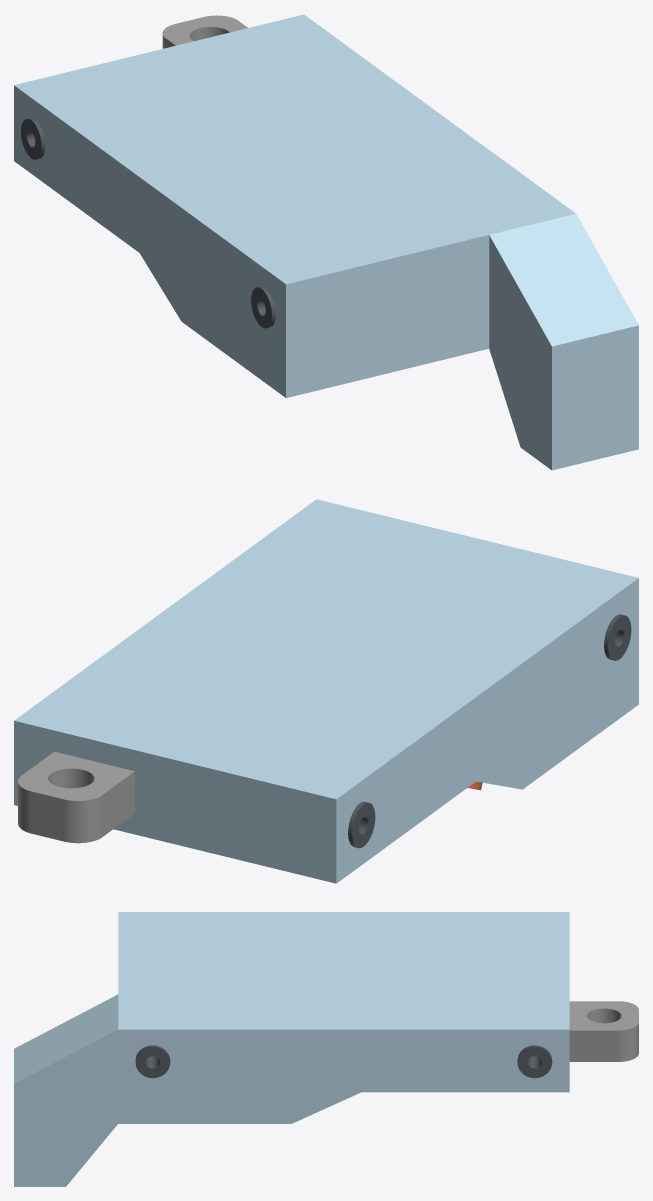
The model's file is robot_base.dae.
The picture shows the model from 3 angles, top to bottom: view 1: azimuth 30°, elevation 25°; view 2: azimuth 150°, elevation 25°; view 3: azimuth 270°, elevation 25°; orthographic projection. The views are drawn at different scales.
Parts seen in each view (by area): view 1: 62519dde91bfd51a0a27ae40 (×2); view 2: 62519dde91bfd51a0a27ae40 (×2); view 3: 62519dde91bfd51a0a27ae40 (×2).
Part boxes in pixels (left/top/right/bottom): 62519dde91bfd51a0a27ae40 (×2): left=14, top=14, right=638, bottom=470; 62519dde91bfd51a0a27ae40 (×2): left=14, top=499, right=638, bottom=883; 62519dde91bfd51a0a27ae40 (×2): left=14, top=912, right=638, bottom=1186.
Size of the model in its own units: 0.41 by 0.9 by 0.25.
